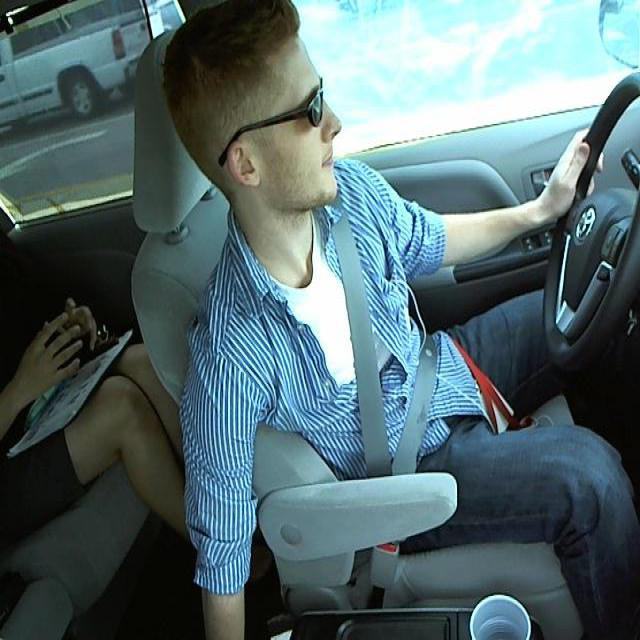seatbelt: (329, 232, 436, 496)
